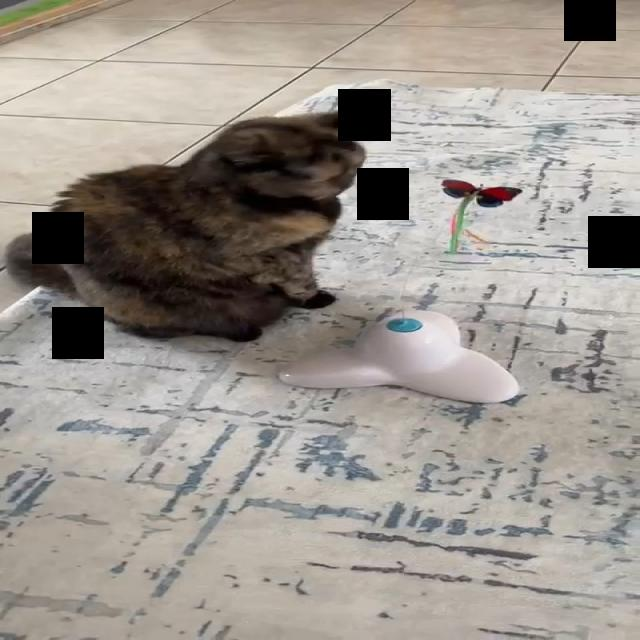authorized: (4, 107, 368, 343)
